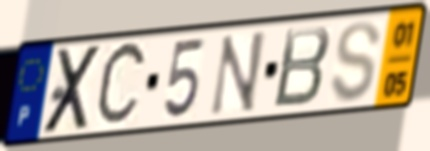5: (162, 36, 207, 121)
B: (270, 23, 334, 111)
C: (92, 37, 150, 134)
N: (206, 28, 269, 119)
S: (327, 18, 383, 106)
X: (39, 41, 106, 138)
